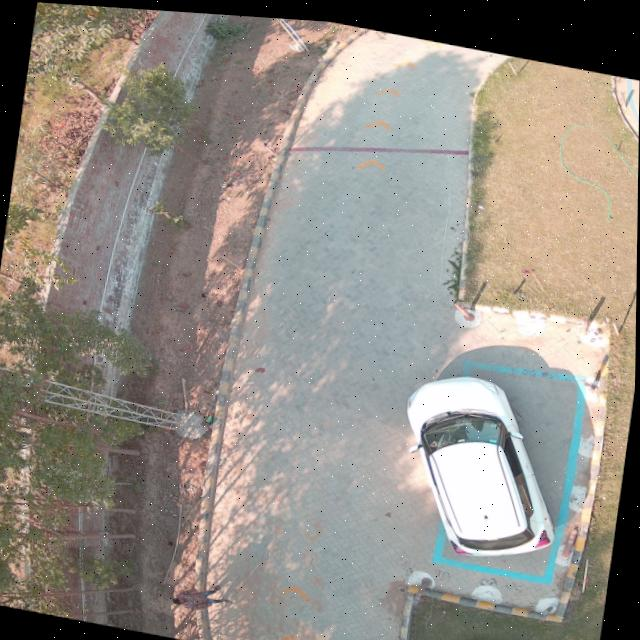car: (410, 371, 553, 548)
